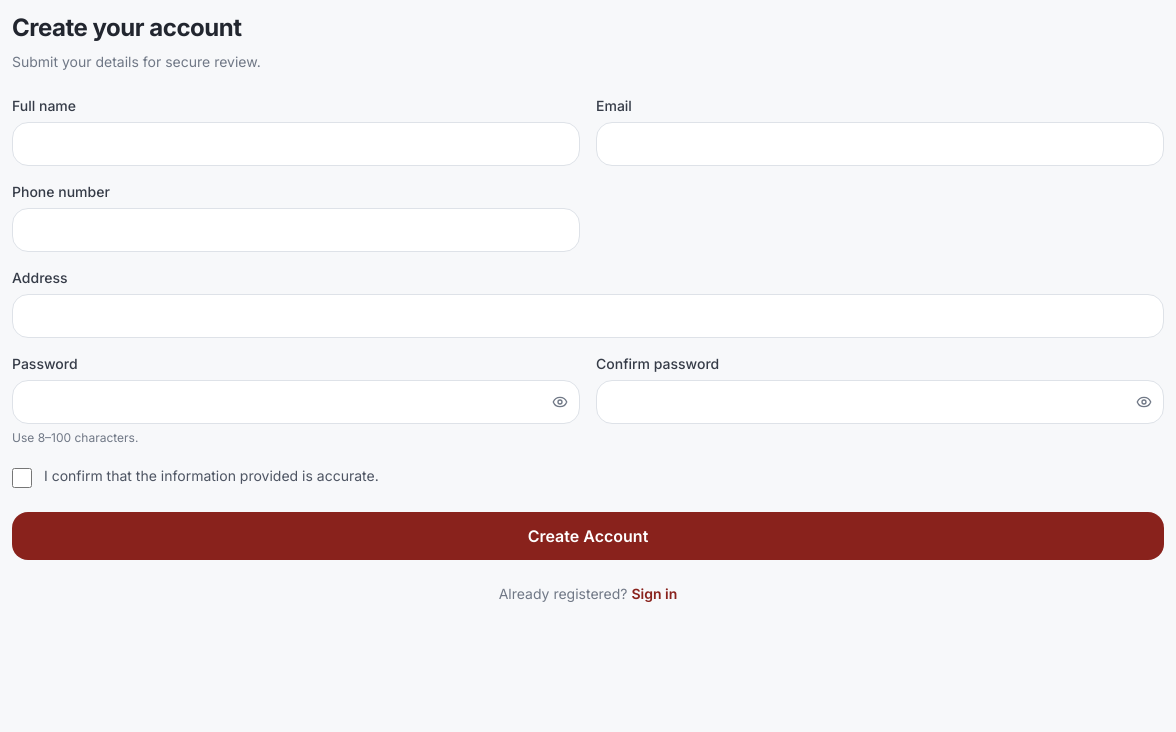
Test: auth pages › validates registration before submitting
Click the button "Create Account".
click(588, 536)  # box top-left (12, 512), bottom-right (1164, 560)
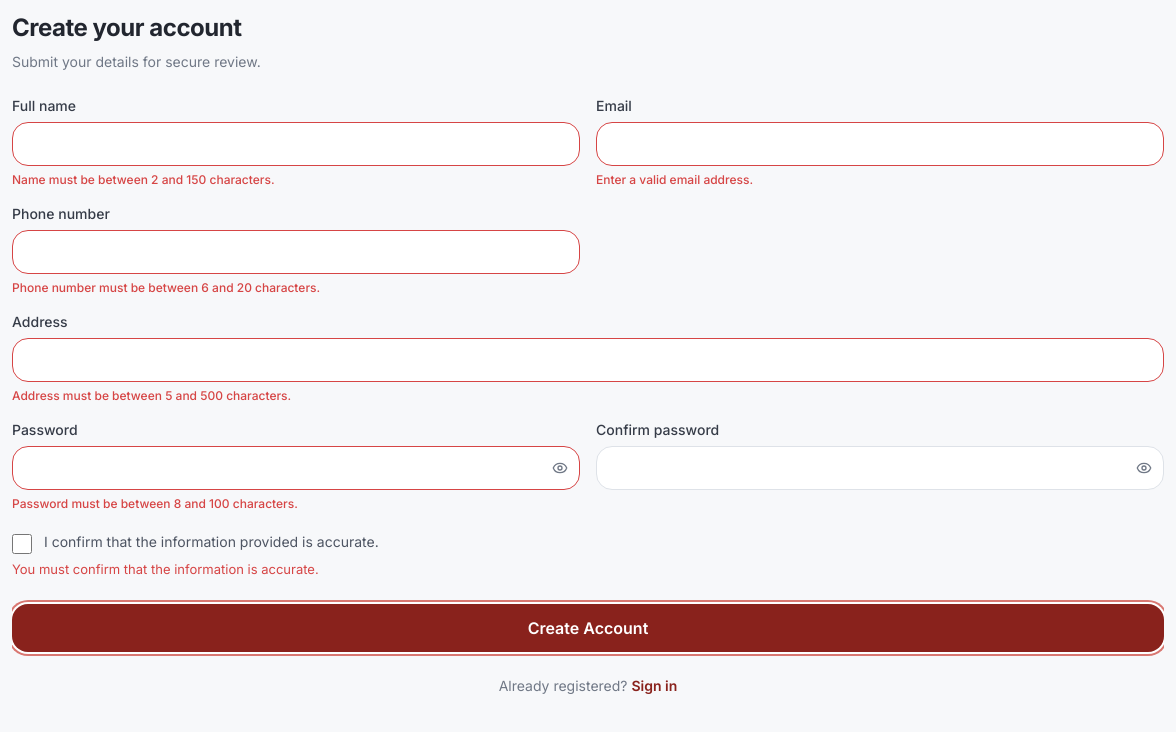
expect the text "Name must be between 2 and 150 characters." is shown: met, box top-left (12, 172), bottom-right (275, 187)
expect the text "You must confirm that the information is accurate." is shown: met, box top-left (12, 561), bottom-right (319, 577)
